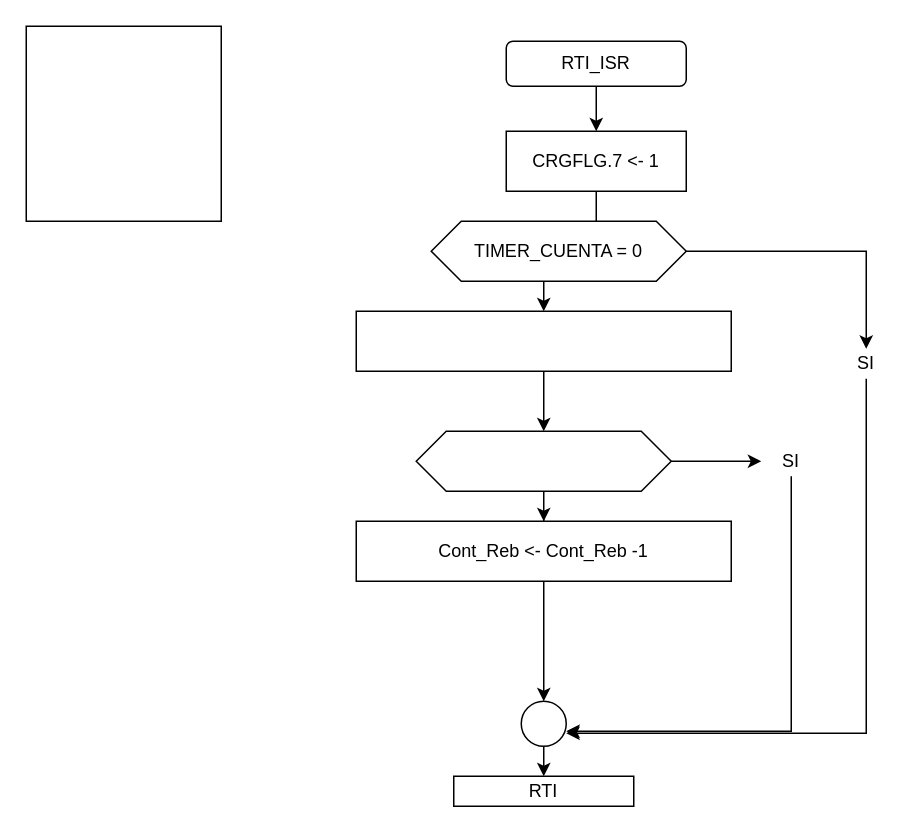
Image size: 923x833. Some labels were removed from this diagram. The shapes that lost their labels are listed below. From the top down, each one's box as (x1, y1, x2, y2) in pixels, then its label:
(25, 25, 221, 221): C - carry K. - Y J - X R1 - A R2 - B RR1 - D
(355, 310, 731, 371): TIMER_CUENTA <- TIMER_CUENTA -1
(415, 430, 671, 491): Cont_Reb = 0
